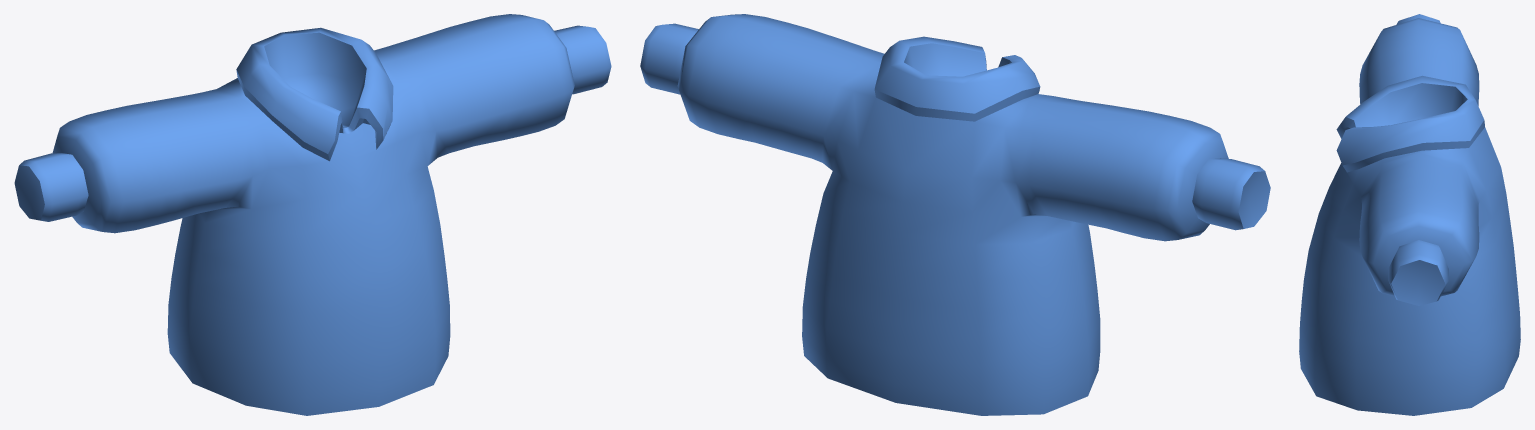
The model's file is Top_32.fbx.
The picture shows the model from 3 angles, left to right: view 1: azimuth 30°, elevation 25°; view 2: azimuth 150°, elevation 25°; view 3: azimuth 270°, elevation 25°; orthographic projection. The views are drawn at different scales.
Parts seen in each view (by area): view 1: Top_32; view 2: Top_32; view 3: Top_32.
Part boxes in pixels (x1=…): Top_32: x1=14, y1=14, x2=611, y2=415; Top_32: x1=640, y1=14, x2=1270, y2=415; Top_32: x1=1299, y1=14, x2=1520, y2=415.
Size of the model in its own units: 95.16 by 48.91 by 36.27.
